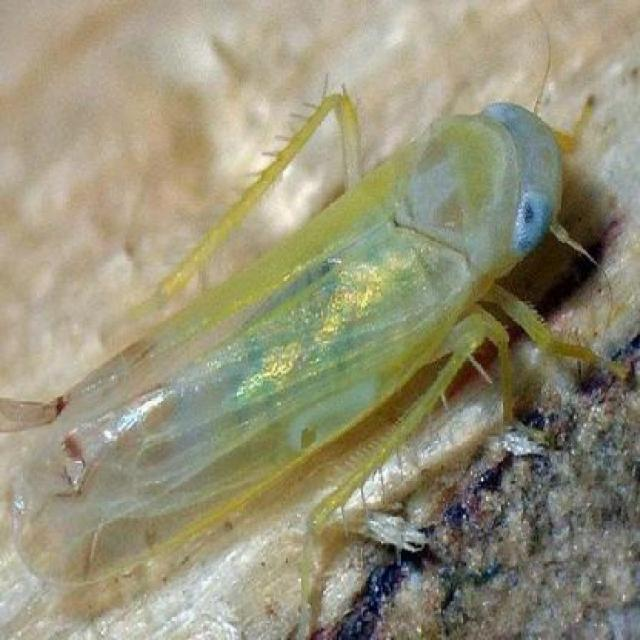green-leafhopper: (39, 106, 566, 579)
